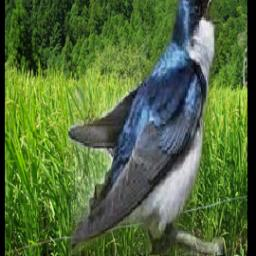Swallow: (67, 0, 222, 255)
